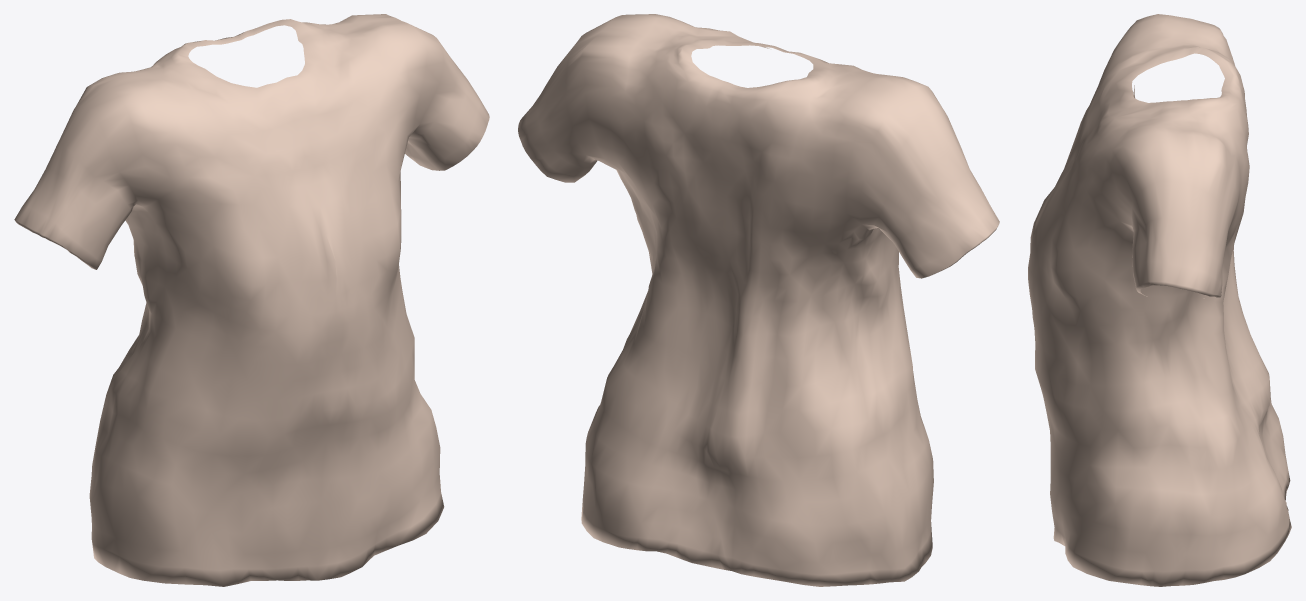
File: tee.glb
The picture shows the model from 3 angles, left to right: view 1: azimuth 30°, elevation 25°; view 2: azimuth 150°, elevation 25°; view 3: azimuth 270°, elevation 25°; orthographic projection. The views are drawn at different scales.
Visible parts, largest first — view 1: Garment; view 2: Garment; view 3: Garment.
Part boxes in pixels (box(x1,y1,x2,y2)): Garment: box(14, 14, 489, 586); Garment: box(518, 14, 999, 586); Garment: box(1028, 14, 1291, 586).
Bounding box in the file's own units: 0.5708 × 0.5777 × 0.3046.
